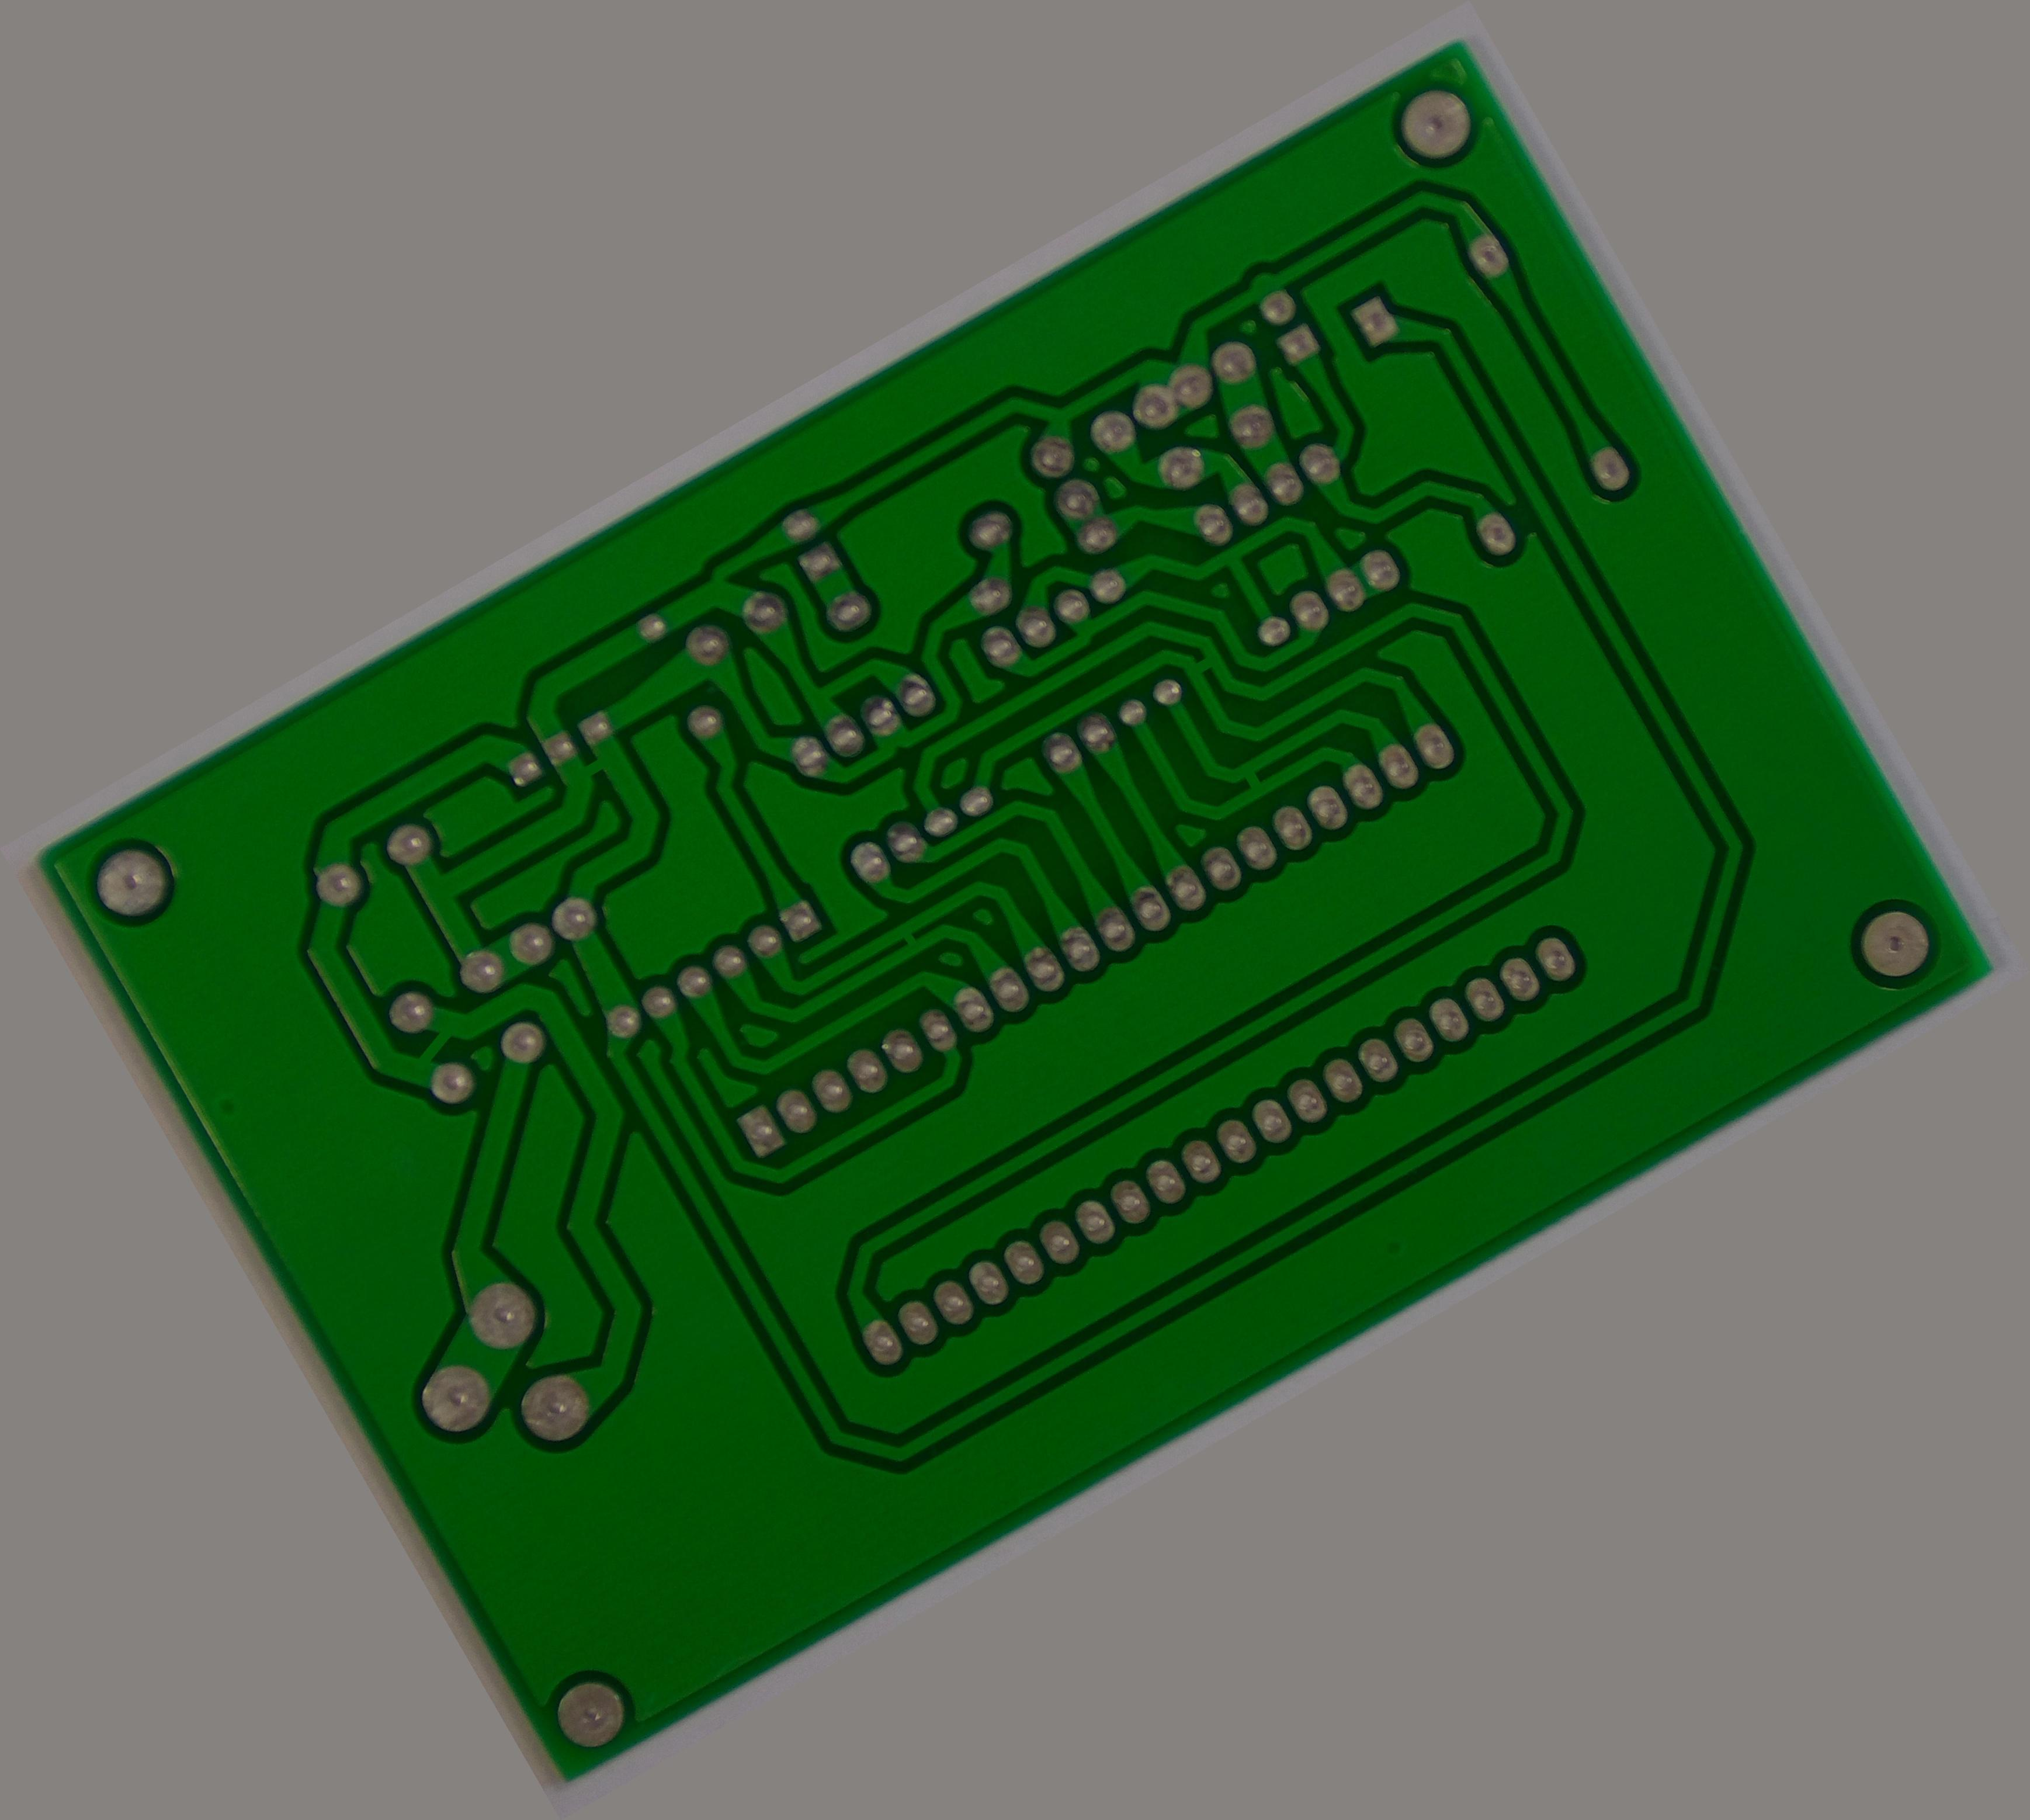short: (383, 1005, 485, 1101), (1212, 743, 1287, 815), (557, 733, 632, 801), (875, 905, 941, 971), (1170, 632, 1238, 697)
